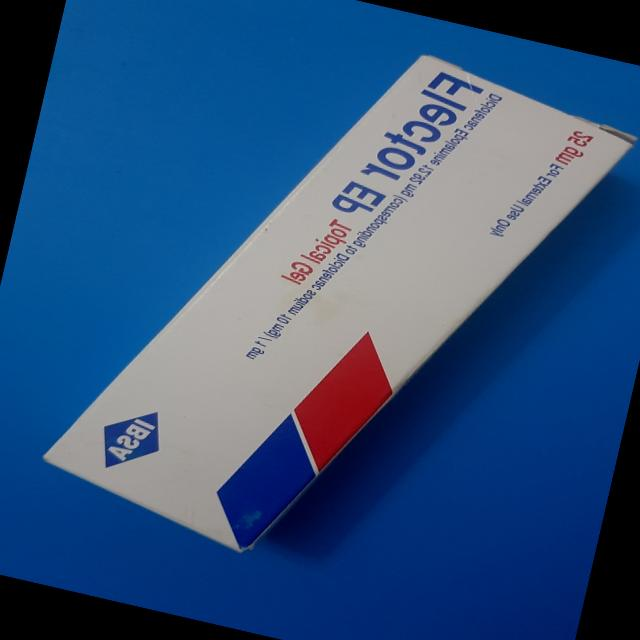medicine_packaging: (2, 0, 640, 635)
